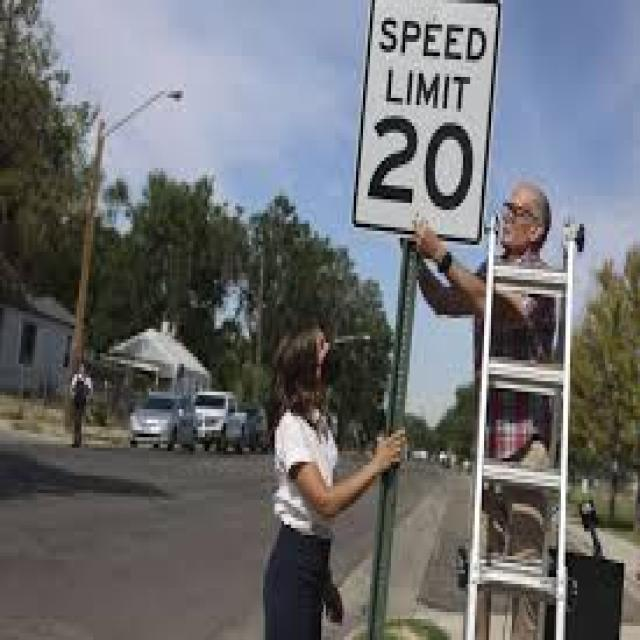speedLimit20: (353, 5, 502, 222)
